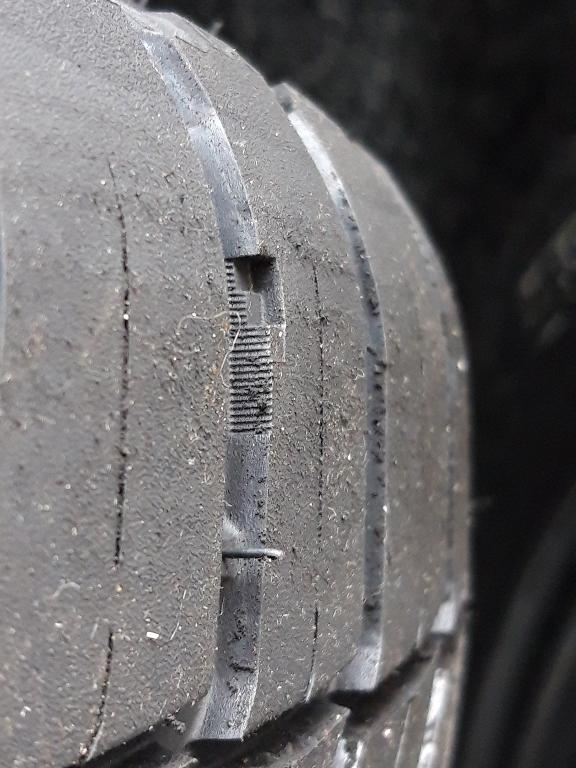temoin:50: (218, 246, 296, 372)
